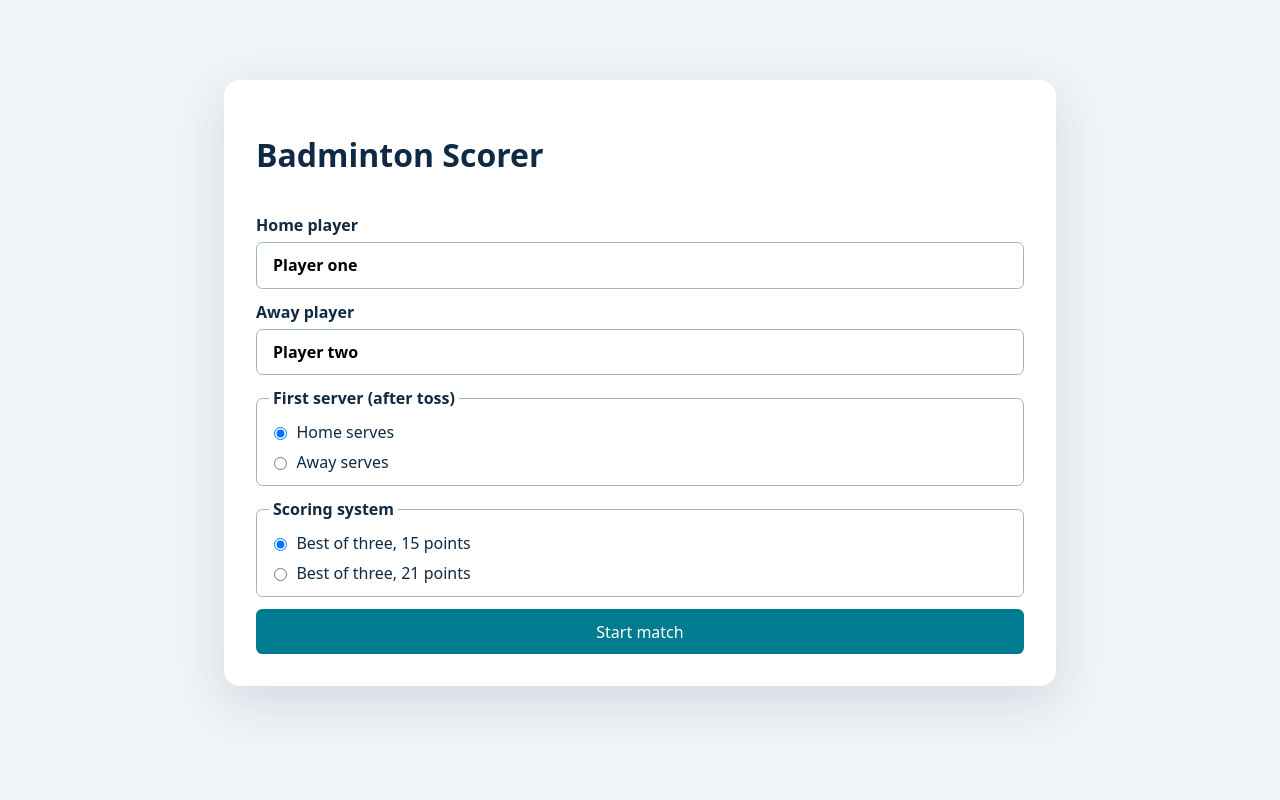
it: match scoring workflow › immediately shows games won and the next game after a game-winning rally
Click the button "Start match" at (640, 632), box [256,609,1024,654]
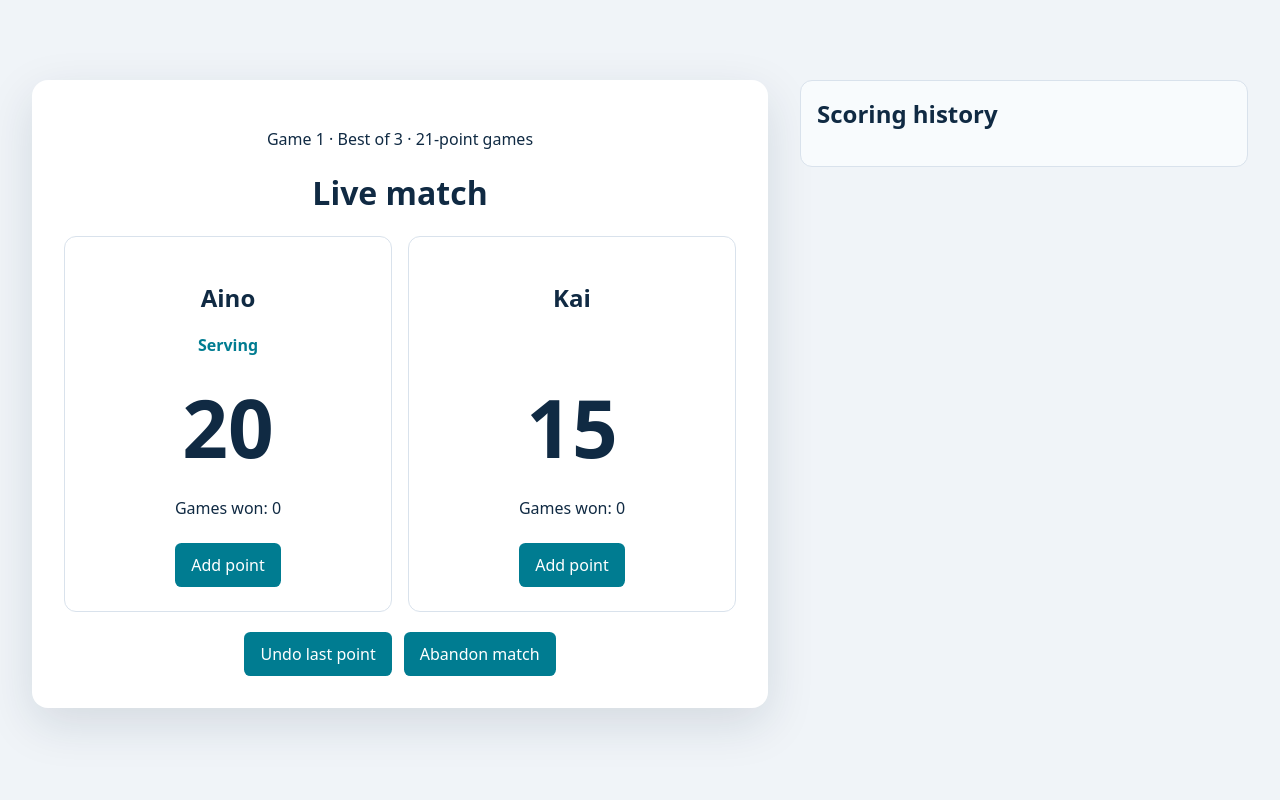
Expected: the heading "Live match" is shown, [312,171,488,214]
Click the button with aria-label "Add point for Aino" at (228, 565), box [175,543,281,587]
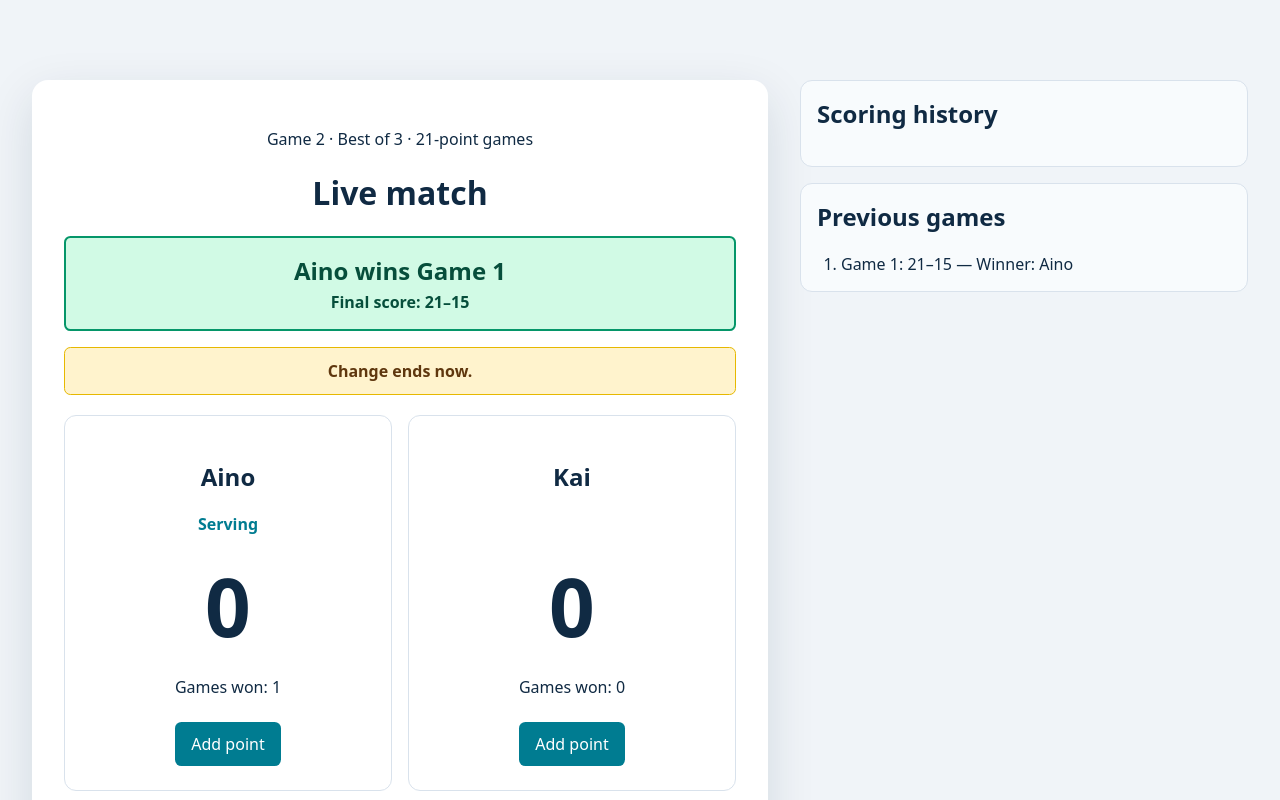
Expected: the text "0" is shown 2 times, [205,551,251,660]; [549,551,595,660]
Expected: the text "Game 2 · Best of 3 · 21-point games" is shown, [267,128,533,150]
Expected: the text "Games won: 1" is shown once, [175,676,281,698]
